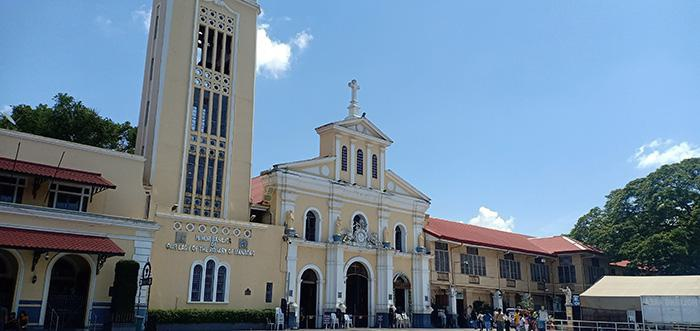manaoag_church_manaoag_pangasinan: (140, 1, 430, 327)
